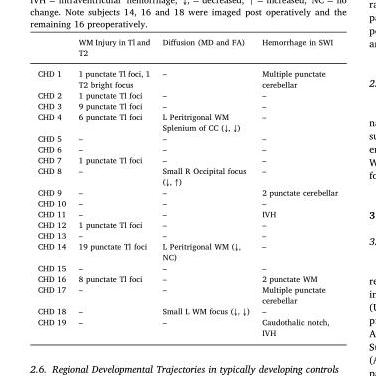table: (36, 36, 337, 336)
table column: (155, 36, 254, 336), (71, 36, 155, 336), (254, 36, 337, 336), (36, 36, 71, 336)
table column header: (36, 36, 337, 62)
table row: (36, 62, 337, 89), (36, 36, 337, 62), (36, 283, 337, 305), (36, 111, 337, 132), (36, 165, 337, 186), (36, 240, 337, 261), (36, 316, 337, 336), (36, 261, 337, 273), (36, 89, 337, 100), (36, 100, 337, 111), (36, 132, 337, 143), (36, 143, 337, 154), (36, 154, 337, 165), (36, 186, 337, 197), (36, 197, 337, 208), (36, 208, 337, 219), (36, 229, 337, 240), (36, 305, 337, 316), (36, 219, 337, 229), (36, 273, 337, 283)
